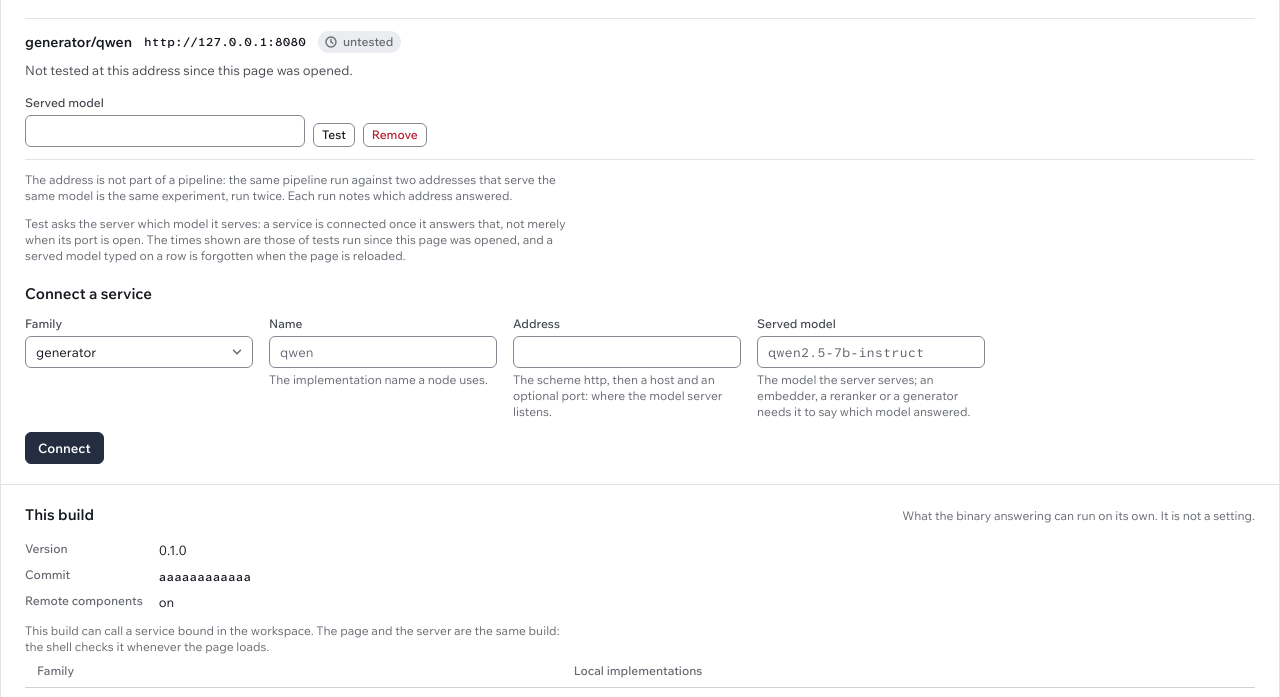
it: the services › connect stores the service then probes it and shows the identity
This screenshot has width=1280, height=697.
(page scrolled)
Expected: the list item "generator/qwen" is shown, [25, 18, 1255, 160]
Select "reranker" in the dropdown labelled "Family". click: (139, 352)
box: [25, 336, 253, 368]
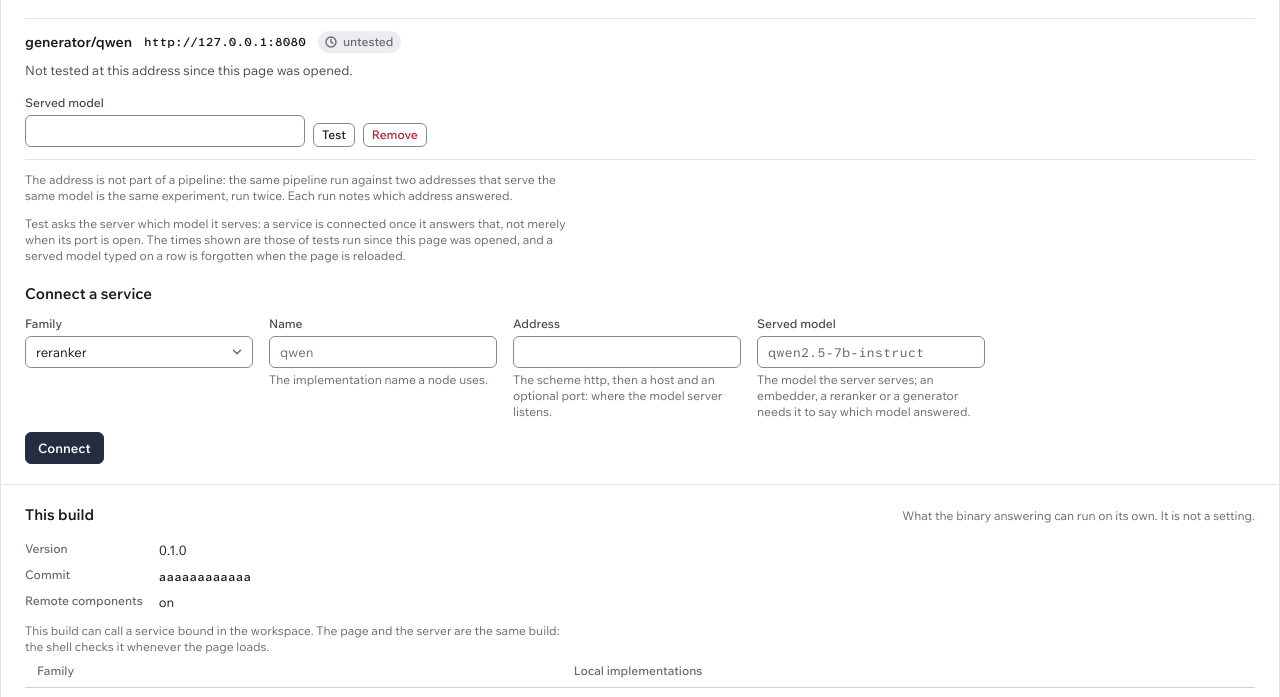
Type "bge" into the field labelled "Name". click: (383, 352)
box: [269, 336, 497, 368]
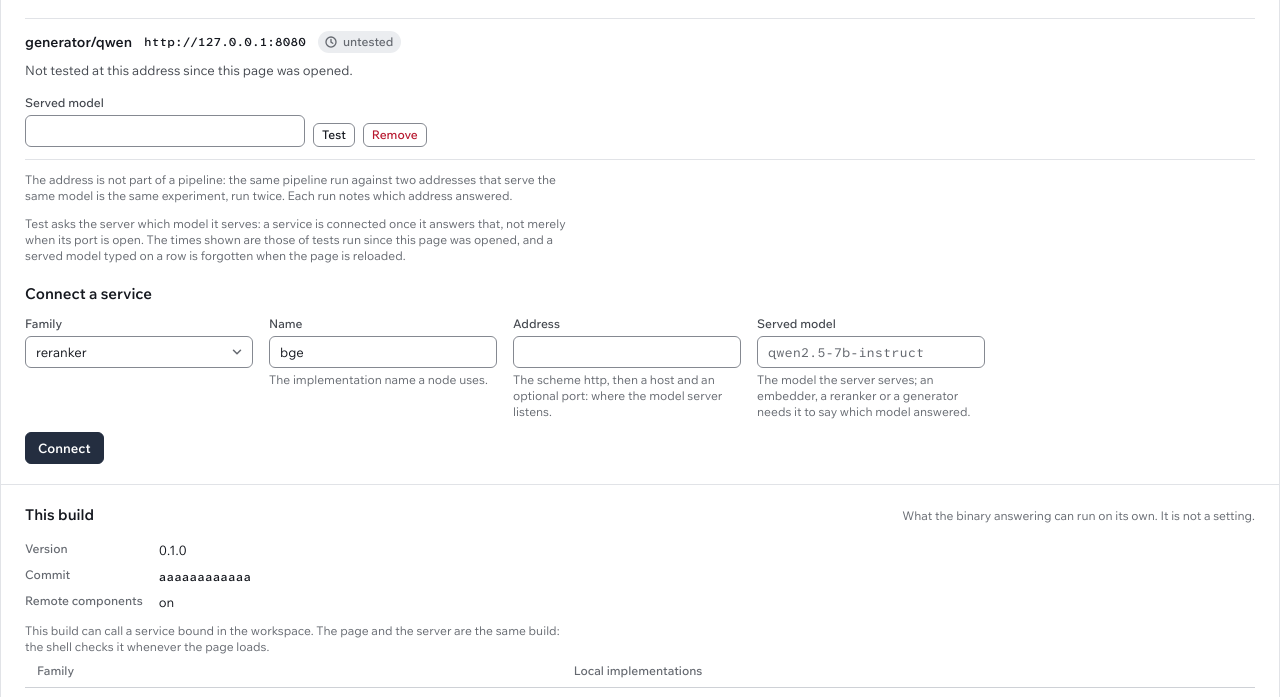
Type "http://127.0.0.1:9090" into the field labelled "Address". click: (627, 352)
box: [513, 336, 741, 368]
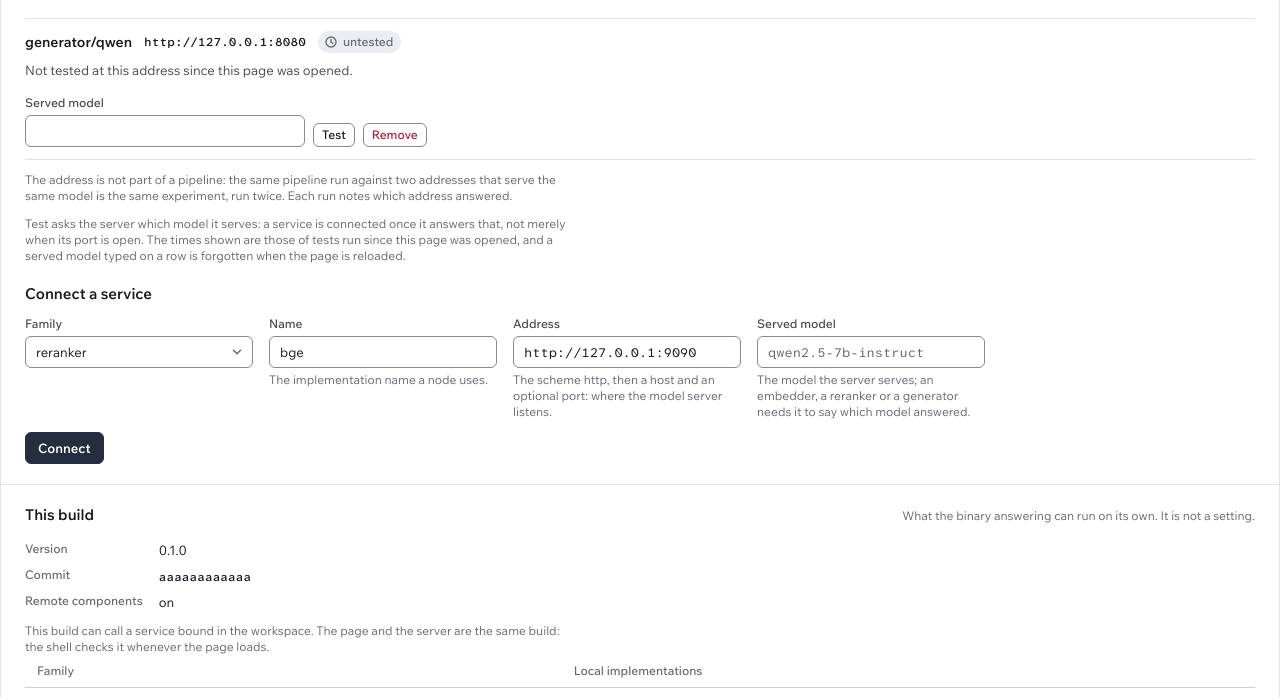
Type "bge-reranker-v2-m3" into the 2nd field labelled "Served model". click: (871, 352)
box: [757, 336, 985, 368]
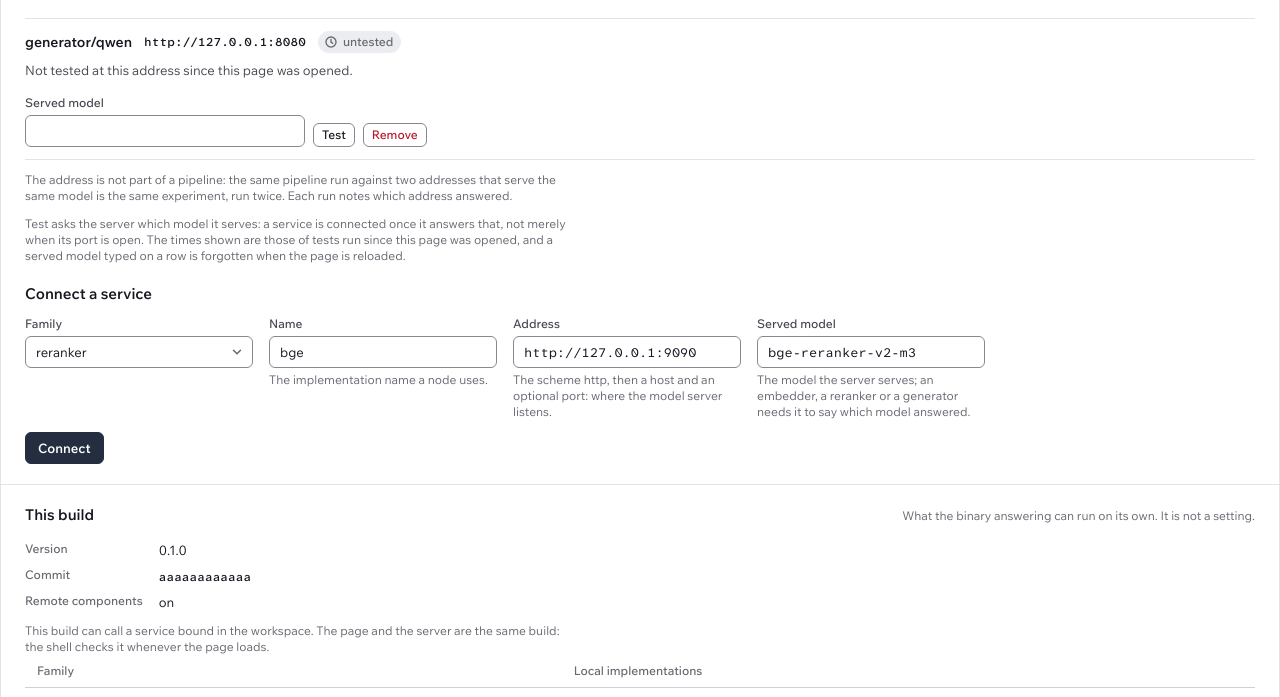
Click the button "Connect". click: (64, 448)
box: [25, 432, 104, 464]
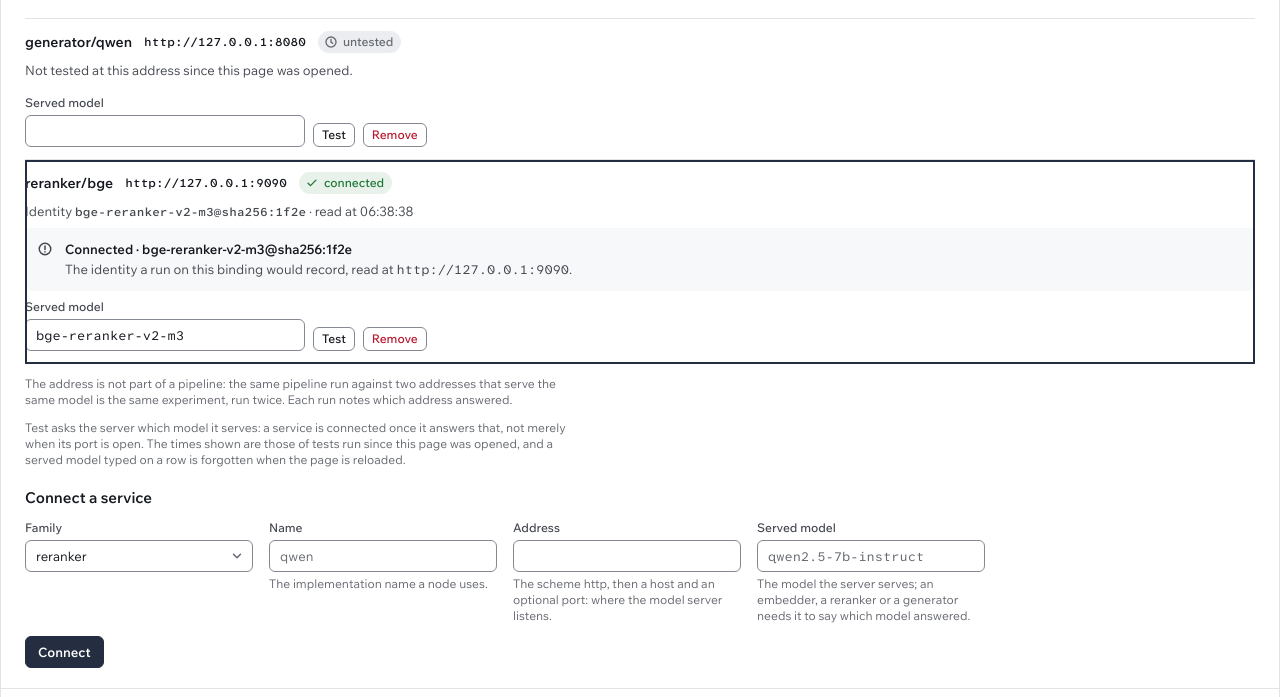
Expected: the text "connected" is shown, [299, 172, 392, 194]
Expected: the list item "reranker/bge" shows "bge-reranker-v2-m3@sha256:1f2e", [75, 204, 306, 220]
